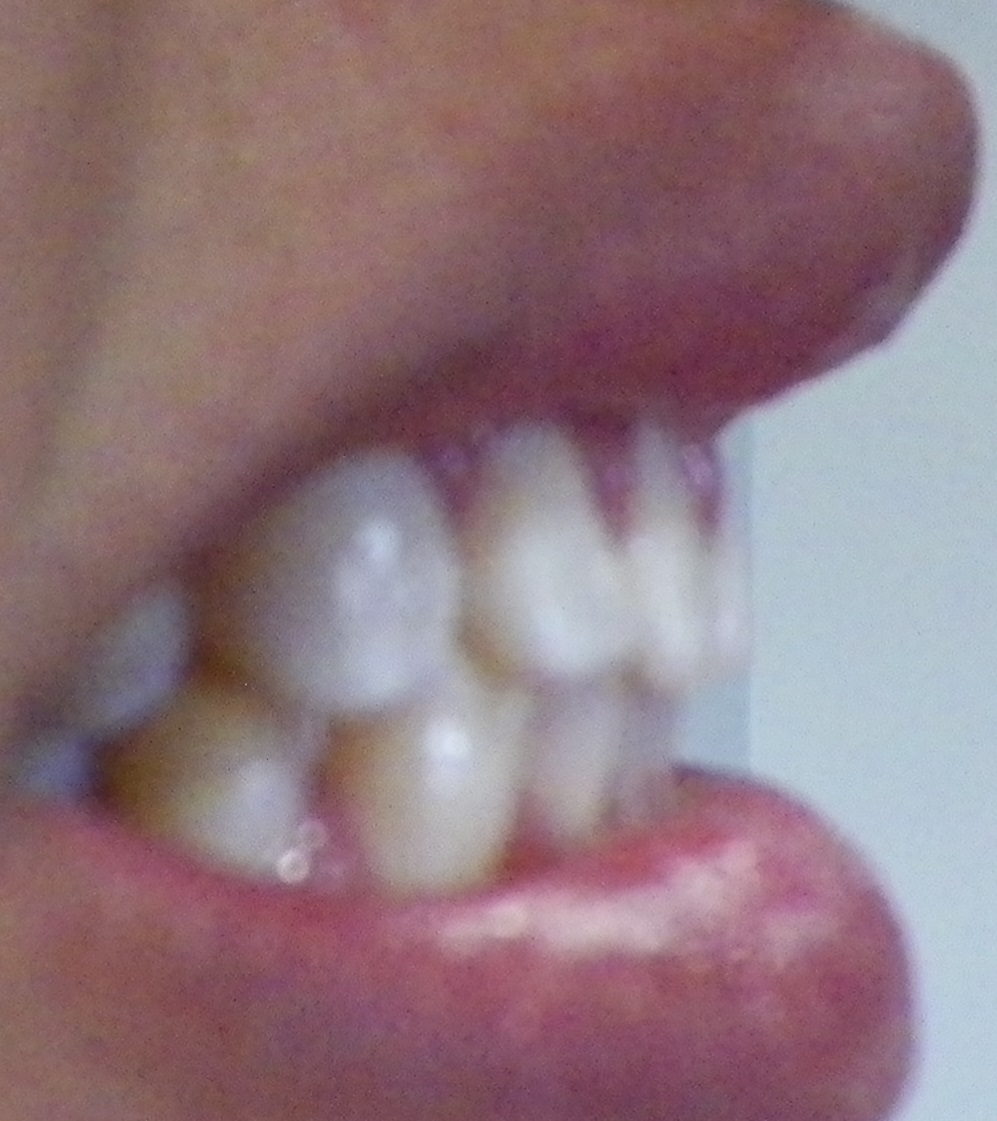boca: (25, 402, 737, 880)
